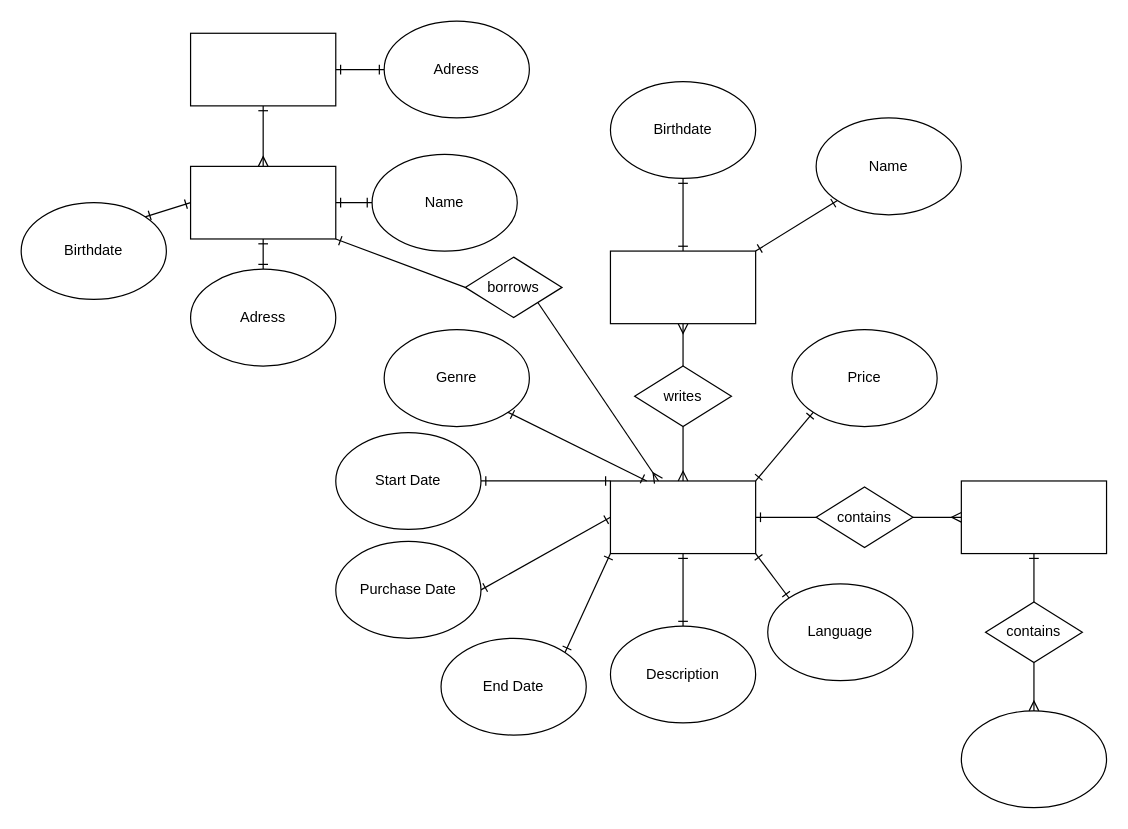
This 1128x829 diagram has some shape labels left out. Here are the shapes that lost their labels. From the top down, the box of each, then its label:
(189, 32, 336, 106): Library
(189, 165, 336, 239): Users
(609, 250, 756, 324): Author
(609, 480, 756, 554): Books
(960, 480, 1107, 554): Chapters
(960, 710, 1107, 808): Pages
